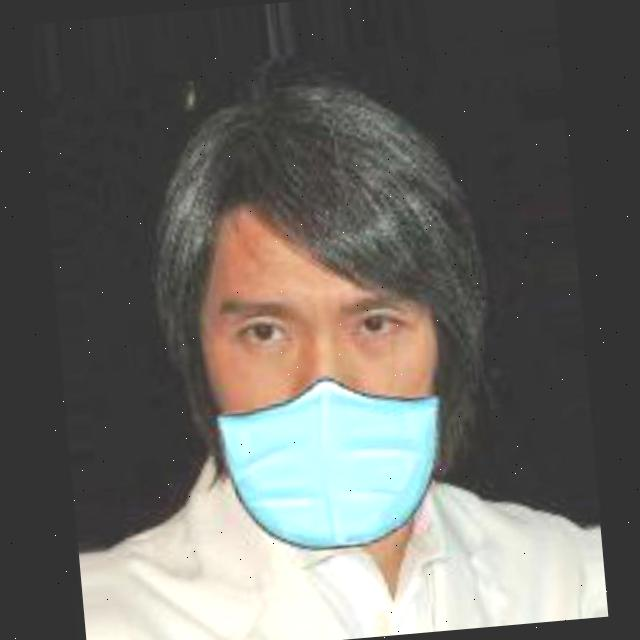suspicion: (145, 88, 523, 532)
